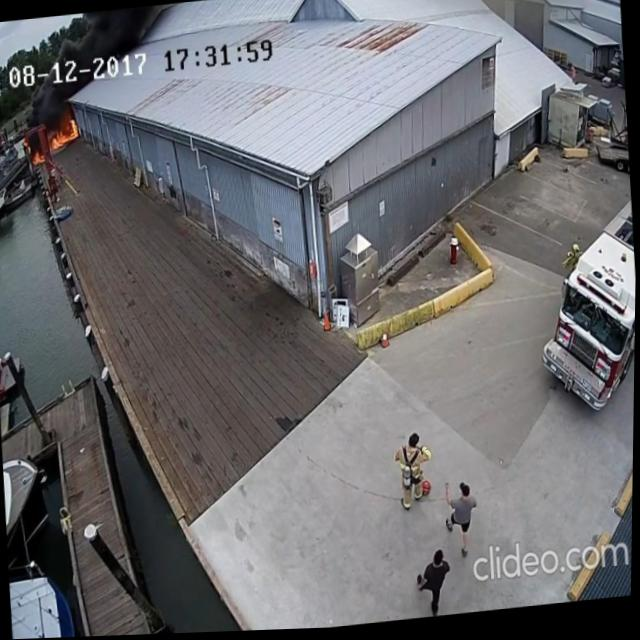fire: (47, 113, 82, 153), (19, 132, 47, 170)
